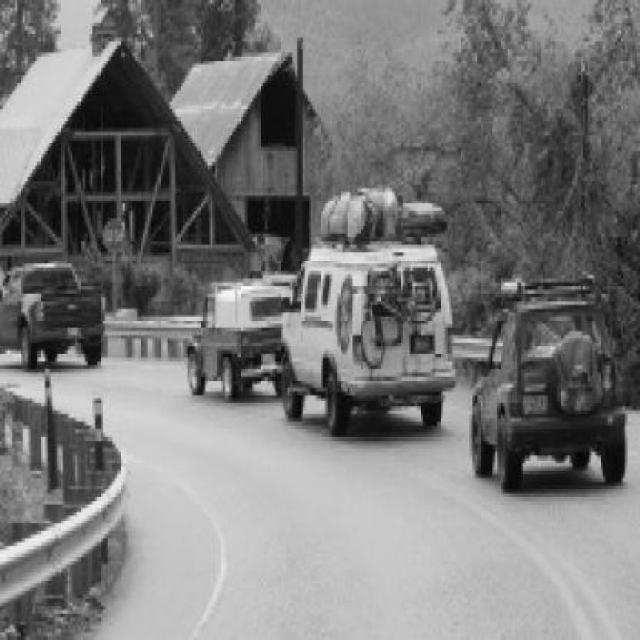Pickup: (0, 263, 105, 369)
SUV: (469, 279, 628, 495)
Van: (281, 192, 456, 438)
